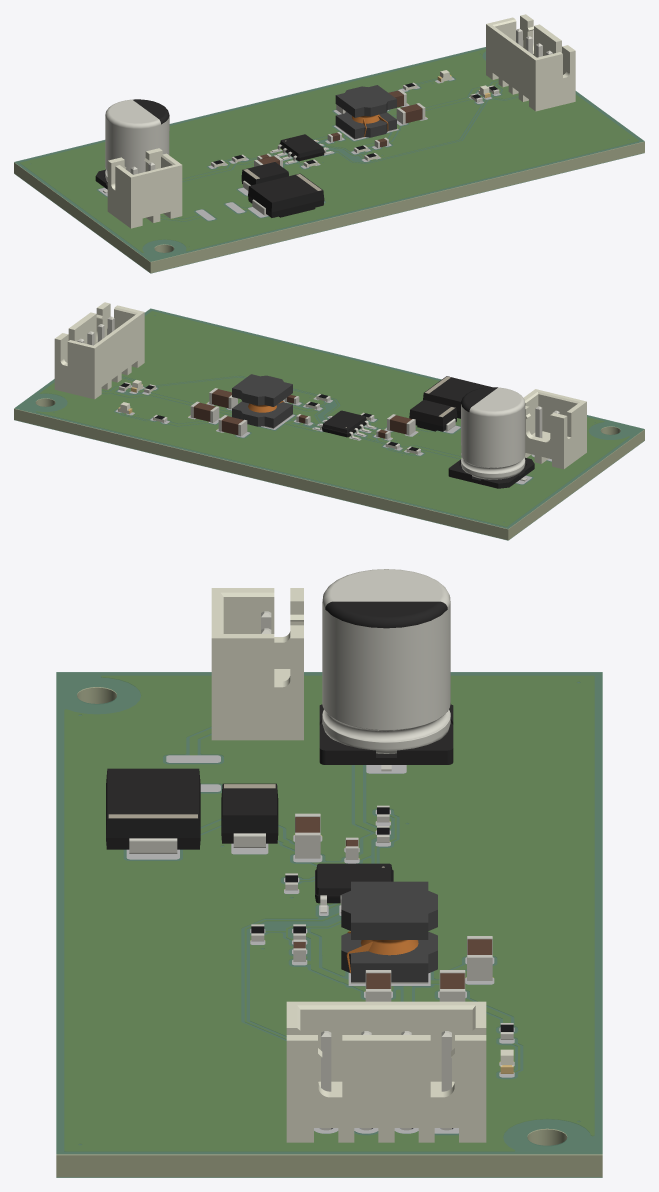
File: buck.glb
3 renders of one model, top to bottom at view 1: azimuth 30°, elevation 25°; view 2: azimuth 150°, elevation 25°; view 3: azimuth 270°, elevation 25°, orthographic. The views are drawn at different scales.
Parts seen in each view (by area): view 1: =>[0:1:1:27], =>[0:1:1:24], =>[0:1:1:29], =>[0:1:1:23], =>[0:1:1:3], =>[0:1:1:9], =>[0:1:1:19], =>[0:1:1:5], =>[0:1:1:25], =>[0:1:1:17], =>[0:1:1:7], =>[0:1:1:28] (+1 smaller); view 2: =>[0:1:1:27], =>[0:1:1:24], =>[0:1:1:29], =>[0:1:1:23], =>[0:1:1:9], =>[0:1:1:3], =>[0:1:1:19], =>[0:1:1:11] (×4), =>[0:1:1:7], =>[0:1:1:5], =>[0:1:1:17], =>[0:1:1:25] (+1 smaller); view 3: =>[0:1:1:27], =>[0:1:1:24], =>[0:1:1:29], =>[0:1:1:23], =>[0:1:1:9], =>[0:1:1:3], =>[0:1:1:19], =>[0:1:1:5], =>[0:1:1:11] (×4), =>[0:1:1:7], =>[0:1:1:25], =>[0:1:1:17].
Part boxes in pixels (x1,y1,x2,y2): =>[0:1:1:27]: [14, 47, 644, 261]; =>[0:1:1:24]: [21, 49, 638, 252]; =>[0:1:1:29]: [14, 48, 644, 273]; =>[0:1:1:23]: [486, 14, 575, 111]; =>[0:1:1:3]: [107, 148, 182, 228]; =>[0:1:1:9]: [95, 99, 169, 193]; =>[0:1:1:19]: [335, 85, 396, 139]; =>[0:1:1:5]: [248, 173, 324, 217]; =>[0:1:1:25]: [98, 77, 500, 220]; =>[0:1:1:17]: [271, 134, 332, 163]; =>[0:1:1:7]: [241, 162, 288, 190]; =>[0:1:1:28]: [14, 153, 644, 273]; =>[0:1:1:27]: [14, 308, 644, 528]; =>[0:1:1:24]: [38, 311, 628, 526]; =>[0:1:1:29]: [14, 309, 644, 540]; =>[0:1:1:23]: [54, 302, 144, 399]; =>[0:1:1:9]: [448, 387, 534, 488]; =>[0:1:1:3]: [523, 389, 586, 469]; =>[0:1:1:19]: [232, 374, 292, 428]; =>[0:1:1:11] (×4): [190, 388, 415, 436]; =>[0:1:1:7]: [409, 400, 457, 431]; =>[0:1:1:5]: [423, 376, 491, 418]; =>[0:1:1:17]: [314, 410, 374, 439]; =>[0:1:1:25]: [115, 385, 551, 484]; =>[0:1:1:27]: [56, 672, 602, 1154]; =>[0:1:1:24]: [65, 676, 593, 1150]; =>[0:1:1:29]: [56, 673, 602, 1177]; =>[0:1:1:23]: [286, 1001, 486, 1142]; =>[0:1:1:9]: [319, 569, 453, 771]; =>[0:1:1:3]: [211, 588, 303, 740]; =>[0:1:1:19]: [341, 881, 437, 983]; =>[0:1:1:5]: [106, 768, 200, 853]; =>[0:1:1:11] (×4): [295, 813, 492, 1001]; =>[0:1:1:7]: [221, 783, 278, 847]; =>[0:1:1:25]: [126, 755, 514, 1133]; =>[0:1:1:17]: [315, 863, 393, 913].
Size of the model in its own units: 0.071 by 0.0134 by 0.034.
